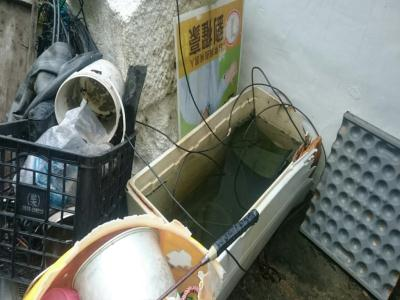box: (124, 82, 321, 300)
bucket: (71, 225, 180, 300), (53, 58, 127, 144)
